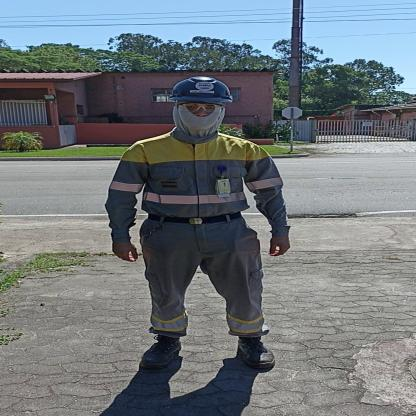Balaclava: (171, 99, 227, 135)
Capacete: (170, 74, 233, 98)
